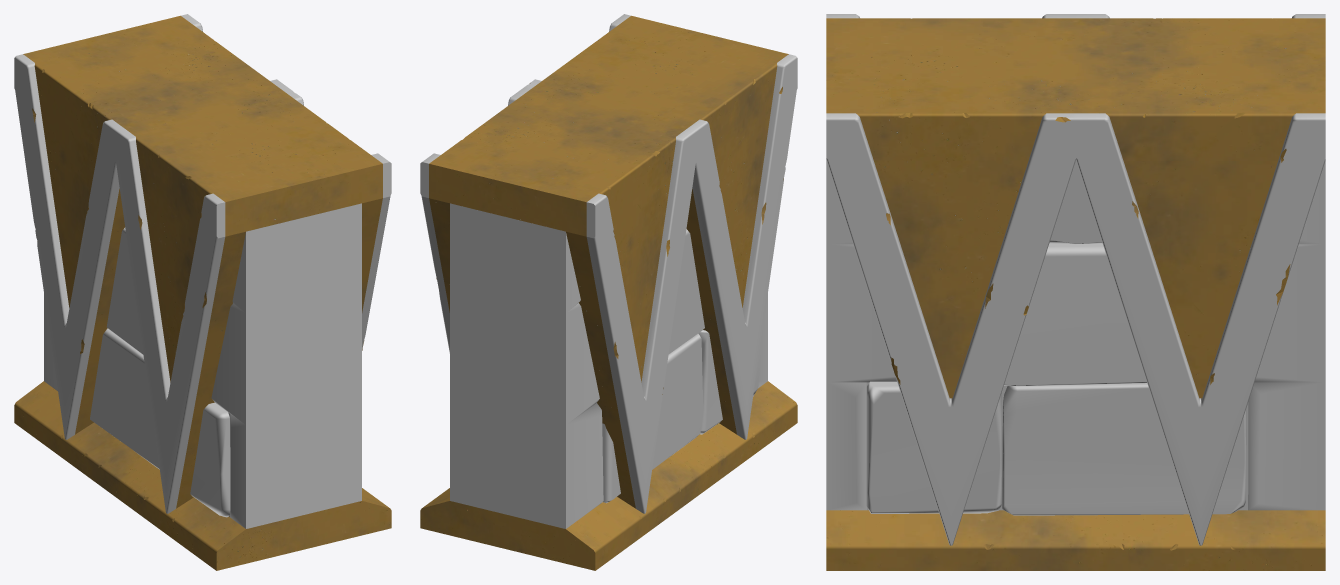
The picture shows the model from 3 angles, left to right: view 1: azimuth 30°, elevation 25°; view 2: azimuth 150°, elevation 25°; view 3: azimuth 270°, elevation 25°; orthographic projection. The views are drawn at different scales.
Parts seen in each view (by area): view 1: SM_DK_4m_FloorWall_02_LOD0; view 2: SM_DK_4m_FloorWall_02_LOD0; view 3: SM_DK_4m_FloorWall_02_LOD0.
Boxes of the visible parts, x1,y1,x2,y2 form: SM_DK_4m_FloorWall_02_LOD0: [14, 14, 391, 570]; SM_DK_4m_FloorWall_02_LOD0: [420, 14, 797, 570]; SM_DK_4m_FloorWall_02_LOD0: [826, 14, 1325, 570].
Size of the model in its own units: 2 by 4 by 4.
